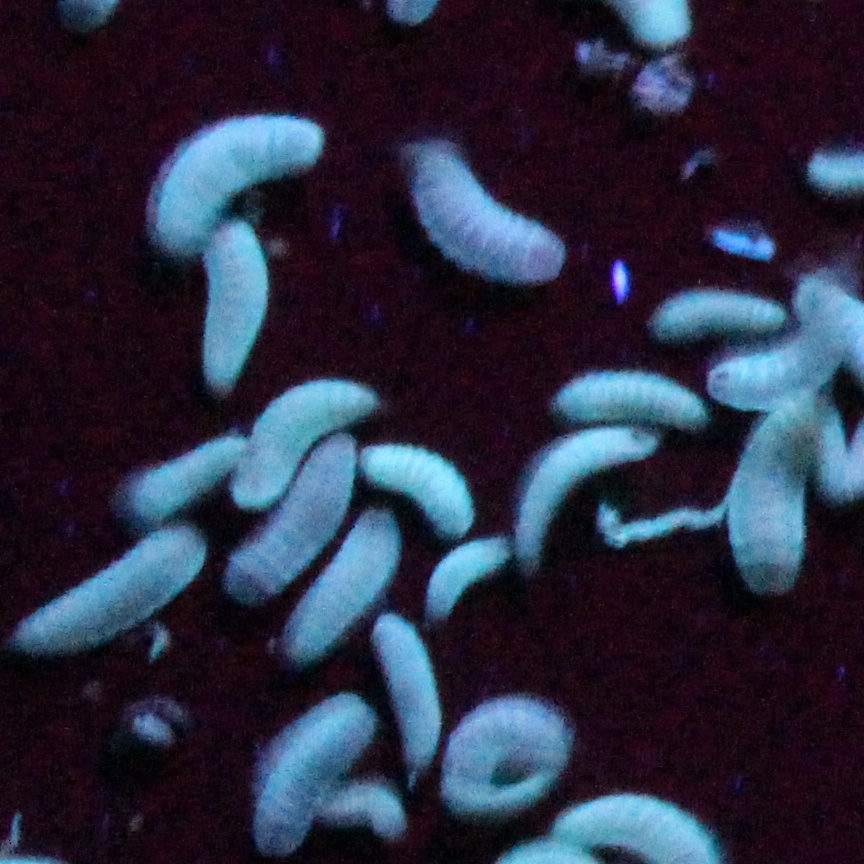larve: (136, 105, 326, 247), (3, 528, 207, 645), (222, 435, 359, 595), (411, 143, 563, 280), (518, 424, 657, 568), (726, 389, 818, 595), (230, 378, 384, 499), (255, 699, 372, 851), (280, 512, 397, 662), (195, 224, 270, 389), (361, 445, 480, 537), (120, 443, 251, 518), (551, 372, 709, 430), (424, 533, 511, 622), (649, 289, 786, 337)
